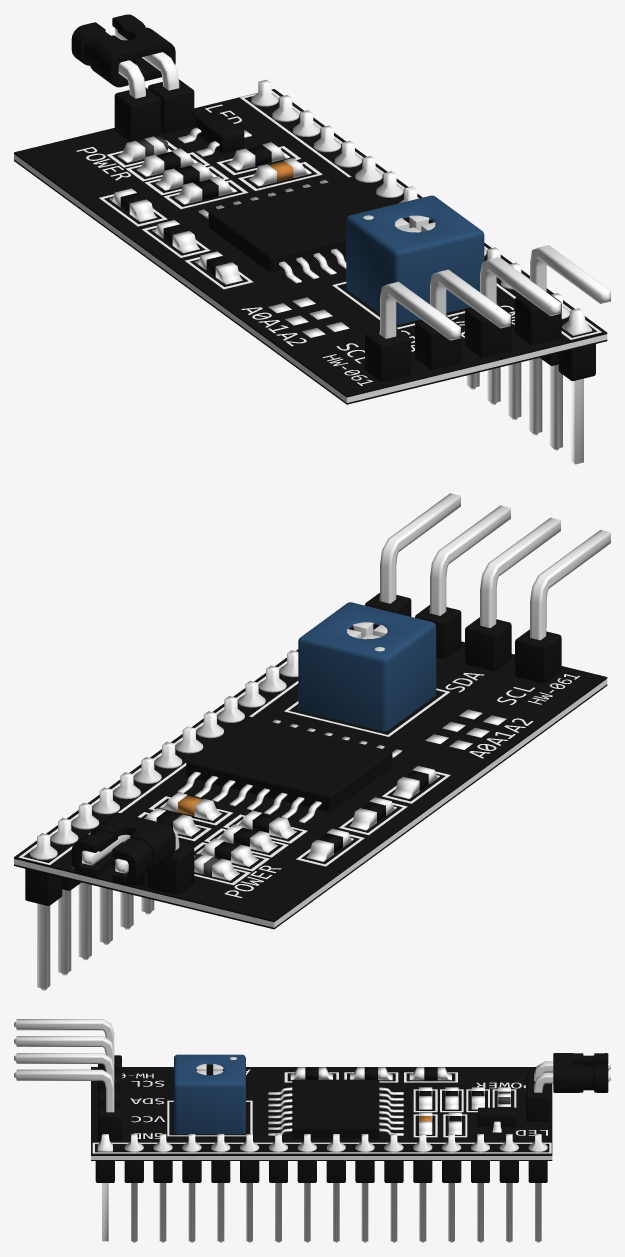
Rendered from I2C driver revisi.fbx.
The picture shows the model from 3 angles, top to bottom: view 1: azimuth 30°, elevation 25°; view 2: azimuth 150°, elevation 25°; view 3: azimuth 270°, elevation 25°; orthographic projection. The views are drawn at different scales.
Parts seen in each view (by area): view 1: Plane, pins.002, Cube, IO pins.001, sisa2.002, pins.003, sisa2.001; view 2: Plane, pins.002, Cube, sisa2.002, IO pins.001, pins.003; view 3: Plane, IO pins.001, sisa2.002, pins.002, Cube, pins.003, sisa2.001.
Boxes of the visible parts, box(x1,y1,x2,y2) form: Plane: box(14, 89, 607, 404); pins.002: box(365, 245, 610, 381); Cube: box(346, 195, 484, 324); IO pins.001: box(251, 79, 595, 464); sisa2.002: box(198, 177, 390, 283); pins.003: box(71, 14, 194, 141); sisa2.001: box(178, 111, 251, 156); Plane: box(14, 641, 607, 929); pins.002: box(365, 493, 610, 683); Cube: box(298, 602, 436, 731); sisa2.002: box(177, 716, 401, 823); IO pins.001: box(25, 650, 298, 990); pins.003: box(71, 813, 194, 894); Plane: box(91, 1067, 552, 1160); IO pins.001: box(95, 1134, 547, 1242); sisa2.002: box(268, 1079, 403, 1138); pins.002: box(14, 1019, 121, 1141); Cube: box(174, 1054, 245, 1134); pins.003: box(526, 1053, 610, 1121); sisa2.001: box(478, 1107, 516, 1132).
Size of the model in its own units: 6.25 by 5.25 by 17.9.
